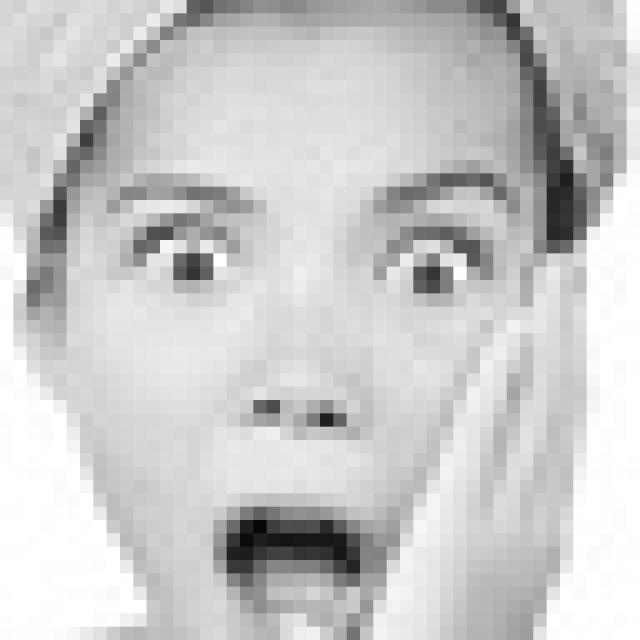surprise: (95, 156, 526, 640)
